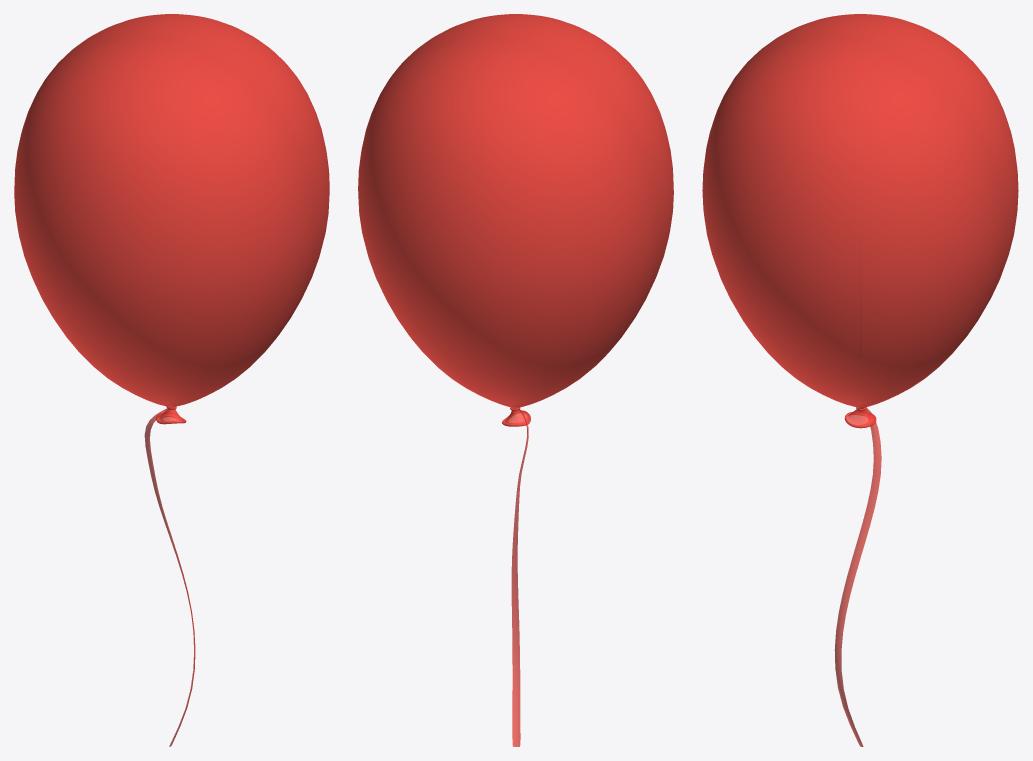
Rendered from balloon.glb.
The picture shows the model from 3 angles, left to right: view 1: azimuth 30°, elevation 25°; view 2: azimuth 150°, elevation 25°; view 3: azimuth 270°, elevation 25°; orthographic projection.
Parts seen in each view (by area): view 1: Balloon; view 2: Balloon; view 3: Balloon.
Boxes of the visible parts, left/top/right/bottom form: Balloon: left=14, top=14, right=329, bottom=746; Balloon: left=358, top=14, right=673, bottom=746; Balloon: left=702, top=14, right=1018, bottom=746.
Size of the model in its own units: 0.311 by 0.7806 by 0.311.
